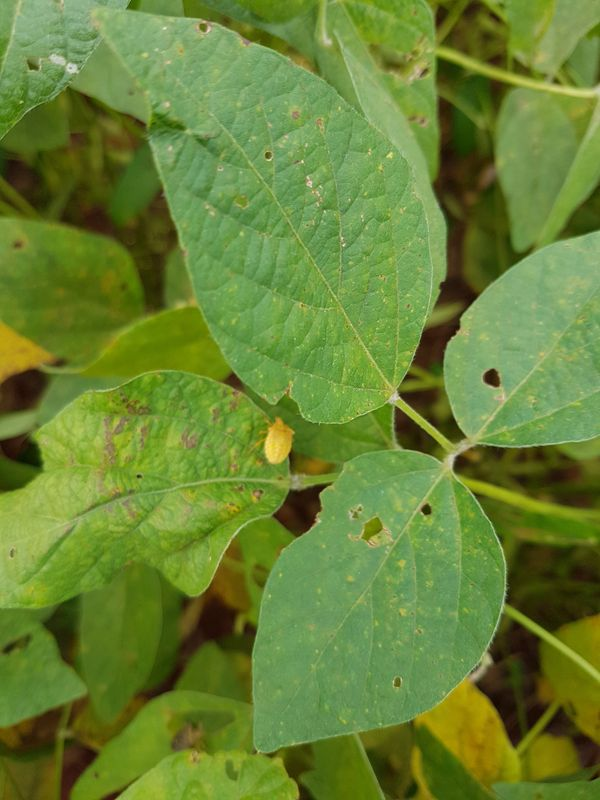Euschistus_heros_ninfa: (250, 411, 304, 475)
